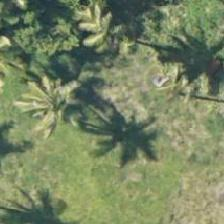coconut_tree: (14, 60, 104, 150), (49, 0, 139, 72)
